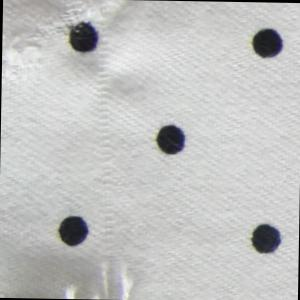Damage: (60, 252, 141, 300)
Wrinkle: (2, 1, 89, 60)
